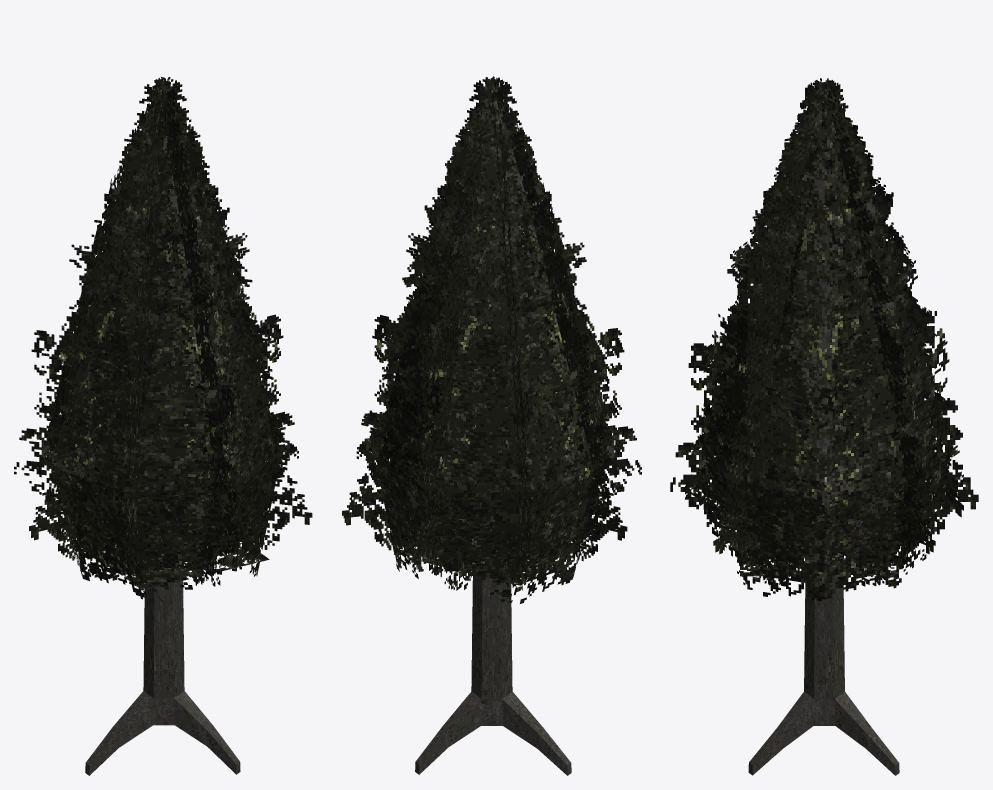
The model's file is tree08_summer.glb.
3 views of the same model, side by side, from view 1: azimuth 30°, elevation 25°; view 2: azimuth 150°, elevation 25°; view 3: azimuth 270°, elevation 25° (orthographic).
Visible parts, largest first — view 1: tree08; view 2: tree08; view 3: tree08.
Part boxes in pixels (x1,y1,x2,y2): tree08: (14,77,312,775); tree08: (342,76,641,775); tree08: (670,78,978,775).
Bounding box in the file's own units: 4.2 × 10.18 × 4.2.
1 material, 1 textured.
